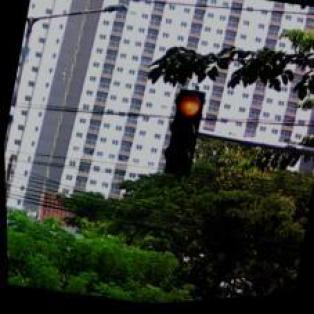Semoforo Rojo: (158, 88, 209, 182)
